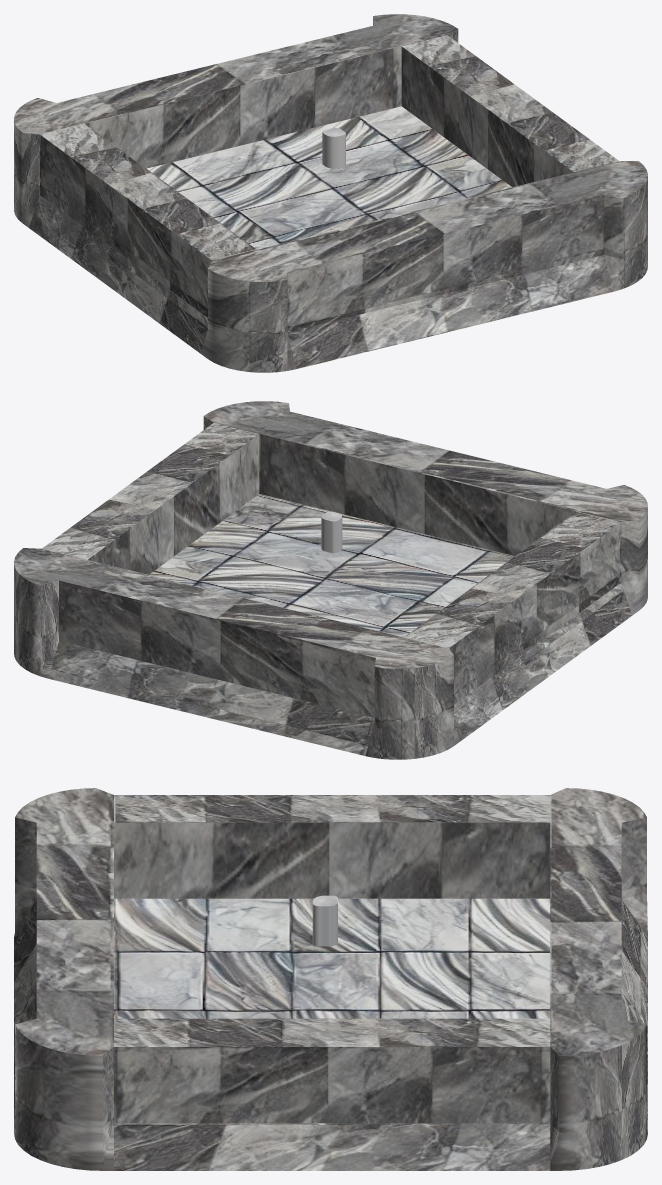
Rendered from baseFuente.obj.
The picture shows the model from 3 angles, top to bottom: view 1: azimuth 30°, elevation 25°; view 2: azimuth 150°, elevation 25°; view 3: azimuth 270°, elevation 25°; orthographic projection. The views are drawn at different scales.
Visible parts, largest first — view 1: fuente polySurface1 BaseFuente, fuente BaseFuente polySurface2, AlturadeAgua fuente; view 2: fuente polySurface1 BaseFuente, fuente BaseFuente polySurface2, AlturadeAgua fuente; view 3: fuente polySurface1 BaseFuente, fuente BaseFuente polySurface2, AlturadeAgua fuente.
Boxes of the visible parts, x1,y1,x2,y2 form: fuente polySurface1 BaseFuente: (14, 14, 647, 372); fuente BaseFuente polySurface2: (146, 106, 511, 249); AlturadeAgua fuente: (322, 128, 345, 168); fuente polySurface1 BaseFuente: (14, 401, 647, 759); fuente BaseFuente polySurface2: (149, 494, 514, 636); AlturadeAgua fuente: (321, 511, 342, 553); fuente polySurface1 BaseFuente: (14, 788, 647, 1170); fuente BaseFuente polySurface2: (114, 898, 550, 1018); AlturadeAgua fuente: (312, 895, 337, 946).
Size of the model in its own units: 3 by 0.7104 by 3.
Materials: 2 (2 with a texture image).
